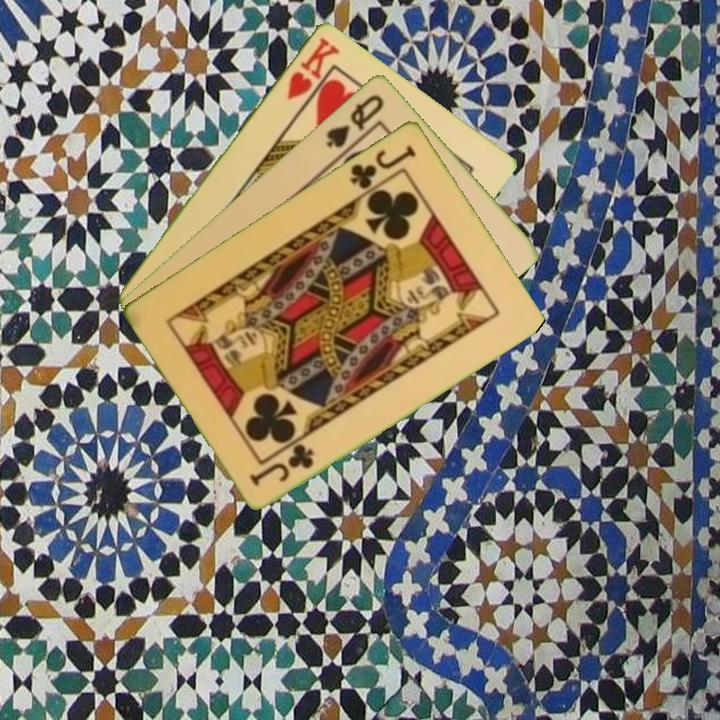Jc: (346, 141, 419, 192), (246, 439, 317, 489)
Kh: (283, 32, 342, 103)
Qs: (322, 90, 387, 151)
